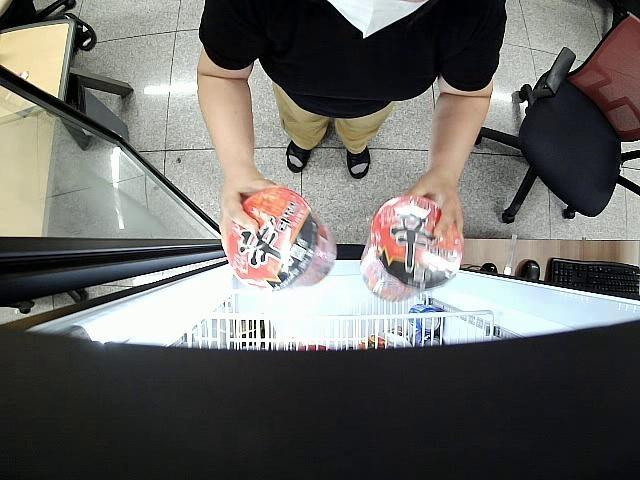01_ShinRamen_L: (225, 188, 336, 290), (360, 196, 462, 302)
